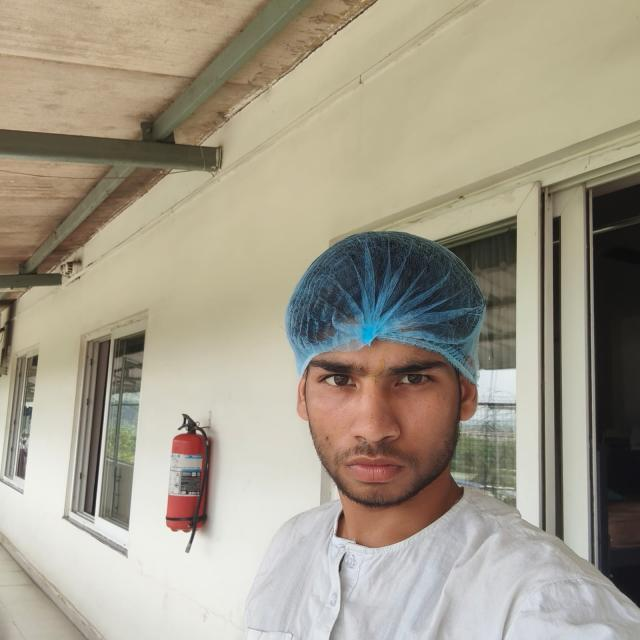hairnet-detection: (285, 232, 485, 384)
